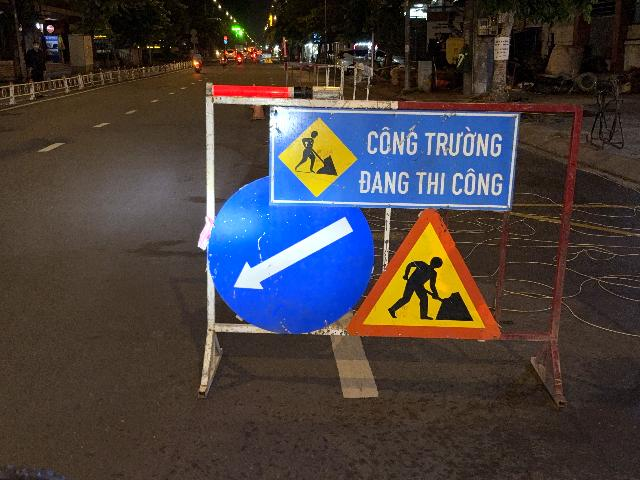cong-truong-dang-thi-cong: (345, 208, 502, 339)
huong-phai-di-vong-chuong-ngai-vat: (208, 173, 375, 334)
